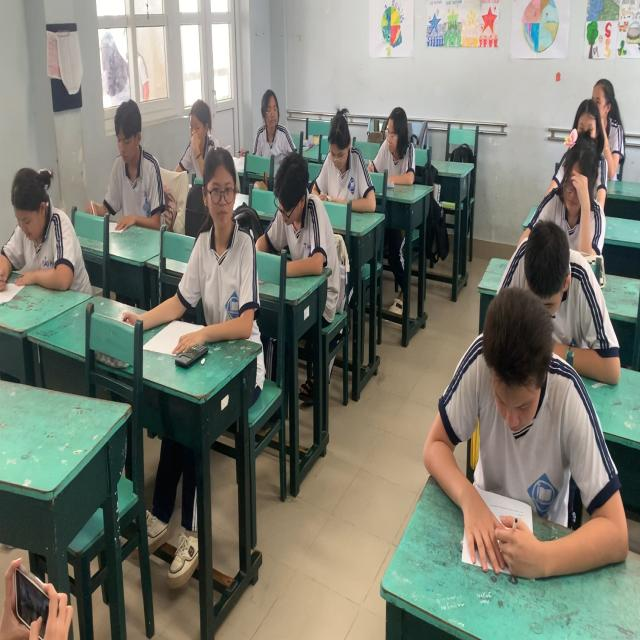not_cheating: (430, 309, 586, 554), (508, 222, 624, 391), (189, 167, 268, 350), (0, 153, 94, 298), (101, 108, 173, 232), (531, 128, 605, 246), (265, 150, 341, 264), (320, 105, 381, 215), (579, 70, 630, 198), (376, 108, 426, 192), (176, 91, 216, 177), (245, 88, 294, 156), (572, 105, 605, 156)
